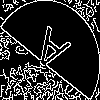A: (25, 25, 72, 82)
